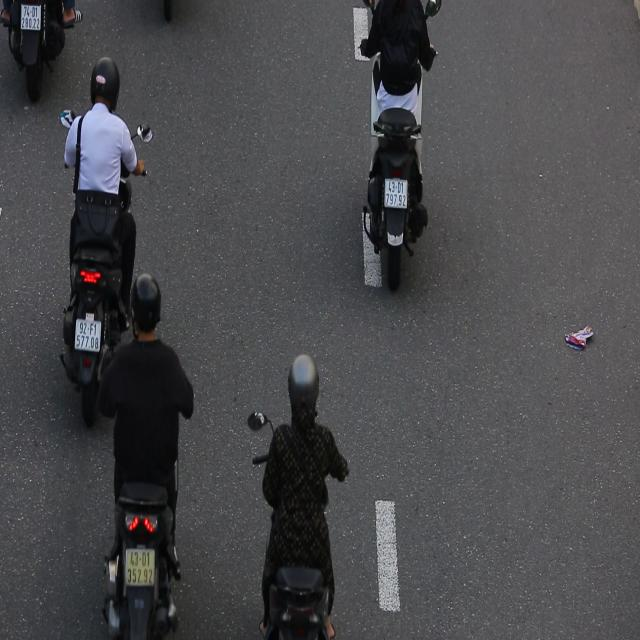motorbike: (100, 280, 189, 640), (53, 46, 140, 409)
